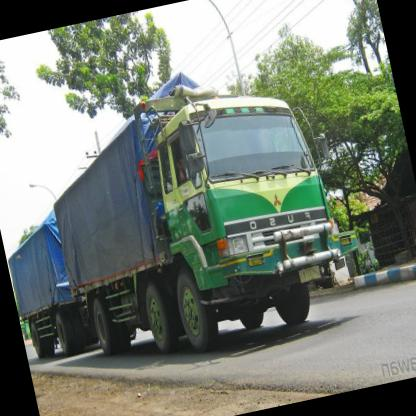truck: (139, 78, 355, 353)
